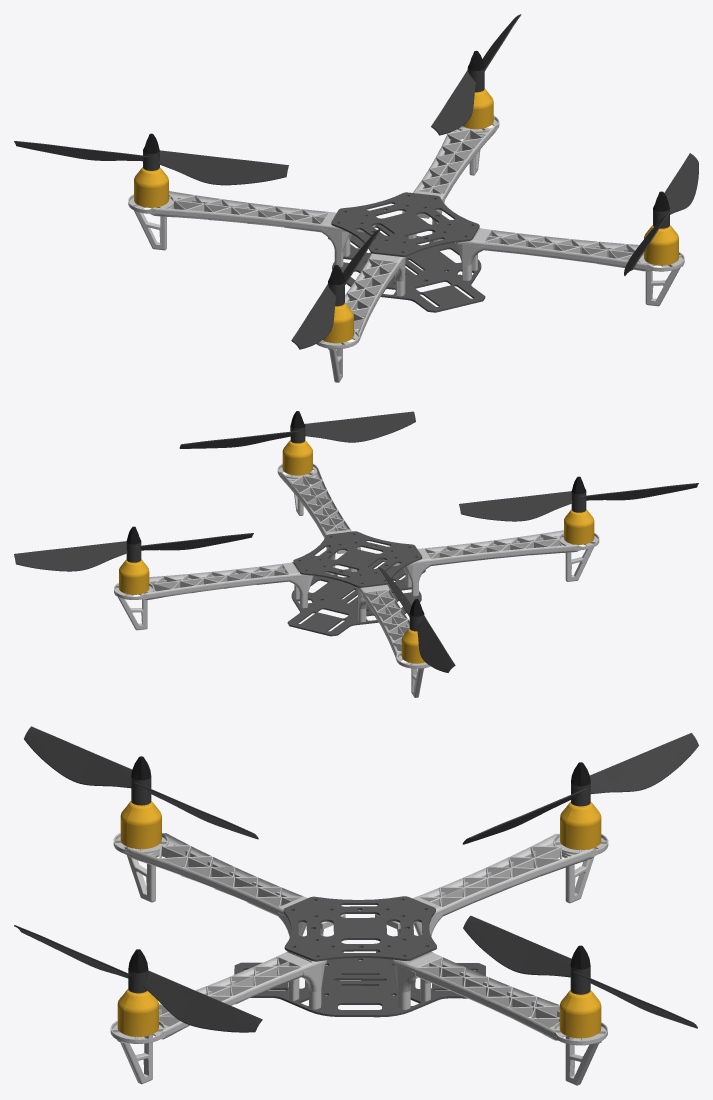
The picture shows the model from 3 angles, top to bottom: view 1: azimuth 30°, elevation 25°; view 2: azimuth 150°, elevation 25°; view 3: azimuth 270°, elevation 25°; orthographic projection. The views are drawn at different scales.
Parts seen in each view (by area): view 1: empty_3, empty_10, empty_4, empty_2, empty_20, empty_6, empty_8, empty_26, empty_27, empty_21, empty_15, empty_17 (+2 smaller); view 2: empty_3, empty_6, empty_8, empty_2, empty_26, empty_27, empty_21, empty_10, empty_4, empty_20, empty_13, empty_17 (+2 smaller); view 3: empty_3, empty_8, empty_10, empty_6, empty_2, empty_4, empty_27, empty_26, empty_21, empty_20, empty_19, empty_13 (+2 smaller).
Part boxes in pixels (x1,y1,x2,y2): empty_3: (331,192,479,256); empty_10: (128,191,377,266); empty_4: (437,228,684,306); empty_2: (328,224,485,312); empty_20: (14,141,288,185); empty_6: (316,253,405,382); empty_8: (402,115,499,242); empty_26: (431,14,521,135); empty_27: (291,228,381,349); empty_21: (624,153,698,275); empty_15: (134,167,168,207); empty_17: (644,225,678,265); empty_3: (293,531,422,587); empty_6: (383,530,599,596); empty_8: (114,562,329,630); empty_2: (287,559,425,636); empty_26: (14,533,253,571); empty_27: (459,483,698,521); empty_21: (179,411,415,448); empty_10: (357,584,430,697); empty_4: (277,463,360,574); empty_20: (378,567,455,672); empty_13: (564,509,594,544); empty_17: (282,440,312,475); empty_3: (283,896,436,961); empty_8: (376,951,607,1085); empty_10: (375,833,608,935); empty_6: (113,833,345,936); empty_2: (234,958,485,1017); empty_4: (110,951,343,1084); empty_27: (24,726,258,839); empty_26: (463,915,697,1028); empty_21: (14,925,262,1032); empty_20: (462,733,698,844); empty_19: (559,990,601,1038); empty_13: (120,801,161,849).
Bounding box in the file's own units: 0.5026 × 0.4955 × 0.1123.
